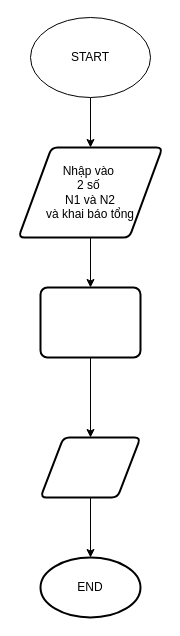
Some shapes in this 180 by 636 pixel diagram are drawn without their labels. Each missing label, with the centre of its shape:
in ra tổng của 2 số: (90,467)
Tổng = N1 + N2: (90,322)
